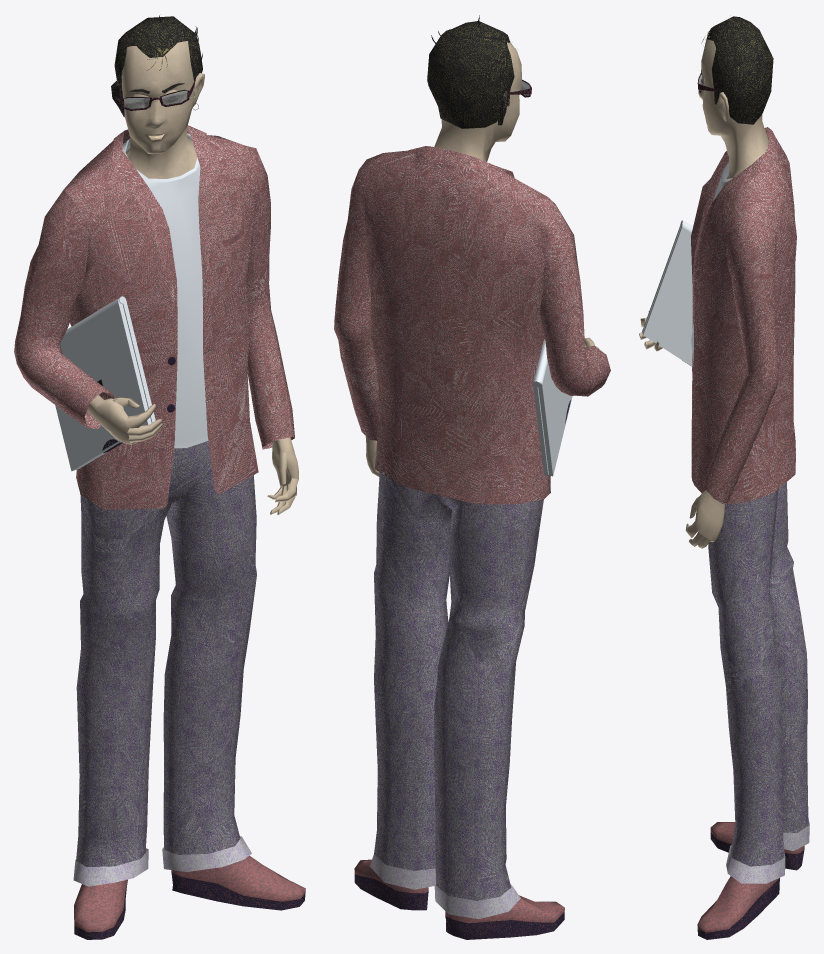
The picture shows the model from 3 angles, left to right: view 1: azimuth 30°, elevation 25°; view 2: azimuth 150°, elevation 25°; view 3: azimuth 270°, elevation 25°; orthographic projection. The views are drawn at different scales.
Parts seen in each view (by area): view 1: SketchUp (×9), group_21, group_20, group_17, group_11, group_4, group_24, group_10; view 2: SketchUp (×8), group_21, group_20, group_17, group_11; view 3: SketchUp (×9), group_21, group_17, group_10, group_24.
Part boxes in pixels (x1,y1,x2,y2): SketchUp (×9): (73, 16, 305, 932); group_21: (64, 125, 258, 509); group_20: (14, 189, 114, 428); group_17: (244, 145, 294, 449); group_11: (55, 299, 151, 471); group_4: (87, 395, 131, 444); group_24: (272, 437, 298, 487); group_10: (76, 298, 155, 469); SketchUp (×8): (354, 21, 564, 939); group_21: (364, 146, 554, 504); group_20: (539, 204, 610, 396); group_17: (334, 153, 382, 440); group_11: (538, 354, 572, 476); SketchUp (×9): (697, 16, 809, 939); group_21: (691, 127, 796, 504); group_17: (703, 206, 778, 503); group_10: (642, 223, 692, 366); group_24: (694, 490, 724, 541).
Size of the model in its own units: 23.8 by 14.28 by 79.96.
26 materials, 11 textured.
